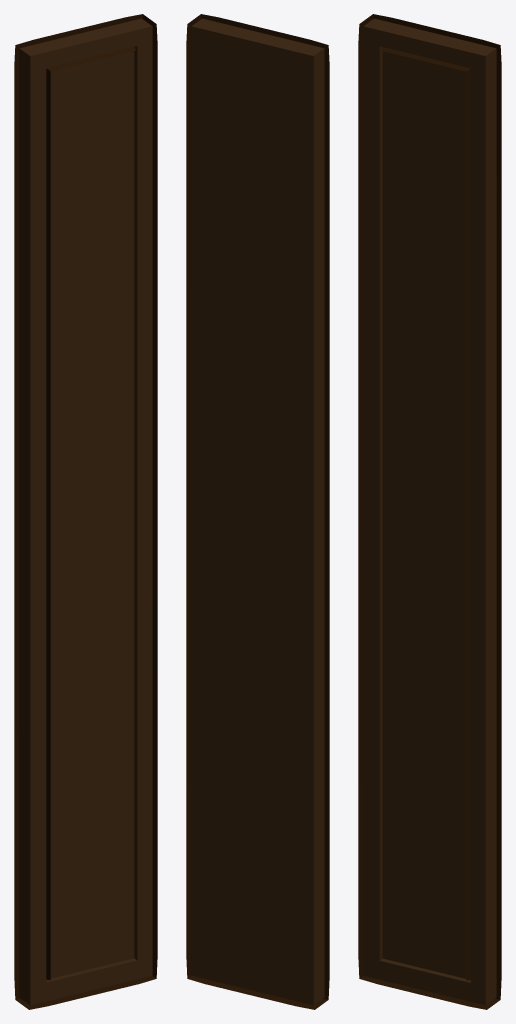
Rendered from CaligraphyPane_(Outlined)_v002.fbx.
The picture shows the model from 3 angles, left to right: view 1: azimuth 30°, elevation 25°; view 2: azimuth 150°, elevation 25°; view 3: azimuth 330°, elevation 25°; orthographic projection.
Parts seen in each view (by area): view 1: CaligraphyPane; view 2: CaligraphyPane; view 3: CaligraphyPane.
Boxes of the visible parts, left/top/right/bottom form: CaligraphyPane: left=14, top=14, right=157, bottom=1009; CaligraphyPane: left=186, top=14, right=329, bottom=1009; CaligraphyPane: left=358, top=14, right=501, bottom=1009.
Bounding box in the file's own units: 28.38 × 201 × 5.82.
